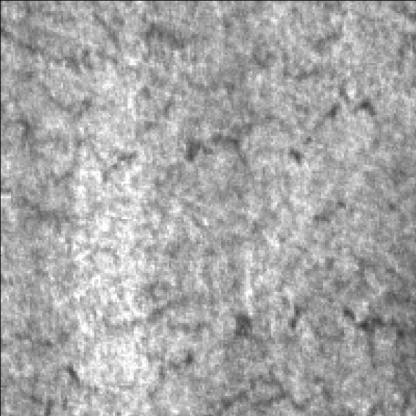crazing: (106, 289, 412, 412), (8, 85, 387, 179), (8, 2, 277, 94)
